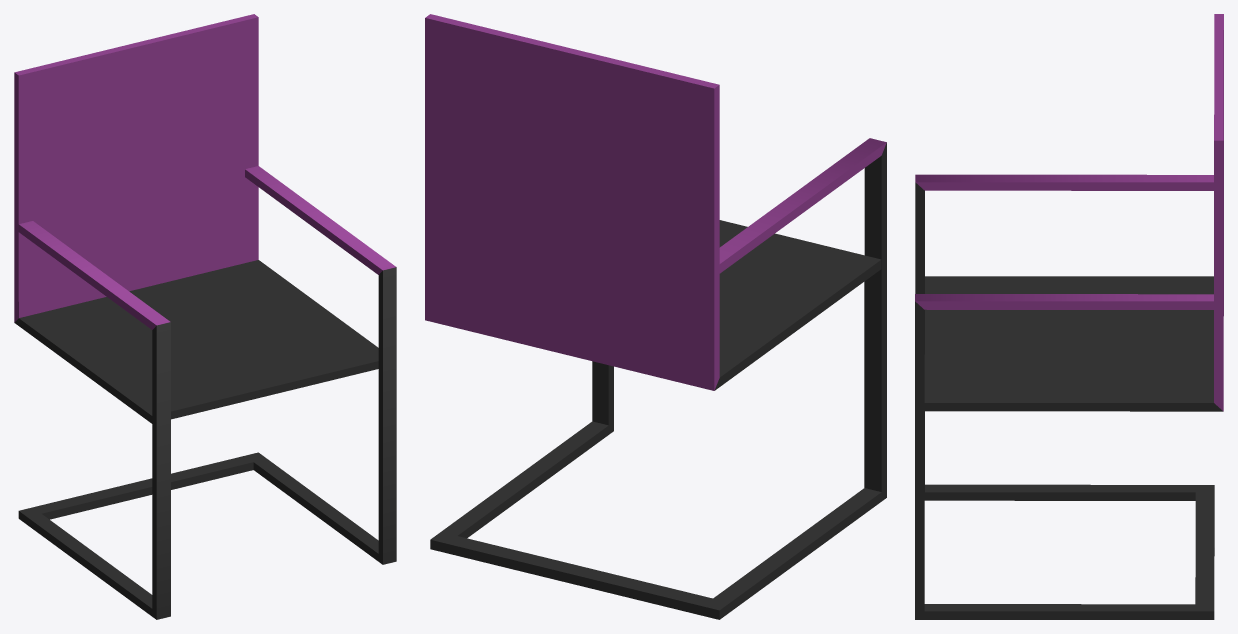
File: chaises_bureau.FBX
3 renders of one model, left to right at view 1: azimuth 30°, elevation 25°; view 2: azimuth 150°, elevation 25°; view 3: azimuth 270°, elevation 25°, orthographic. The views are drawn at different scales.
Visible parts, largest first — view 1: Box008; view 2: Box008; view 3: Box008.
Boxes of the visible parts, bbox=[...] form: Box008: bbox=[14, 14, 396, 619]; Box008: bbox=[425, 14, 886, 619]; Box008: bbox=[915, 14, 1223, 619].
Bounding box in the file's own units: 50.06 × 88.34 × 51.57.
